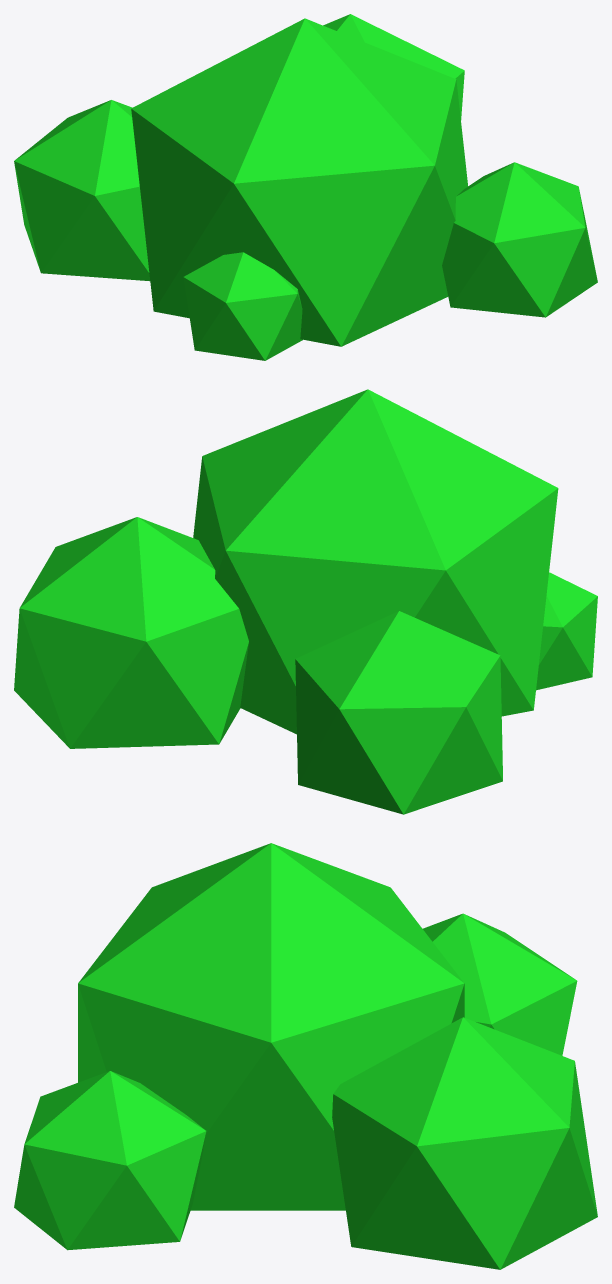
Rendered from bush1.fbx.
3 renders of one model, top to bottom at view 1: azimuth 30°, elevation 25°; view 2: azimuth 150°, elevation 25°; view 3: azimuth 270°, elevation 25°, orthographic. The views are drawn at different scales.
Visible parts, largest first — view 1: Icosphere; view 2: Icosphere; view 3: Icosphere.
Boxes of the visible parts, box(x1,y1,x2,y2) form: Icosphere: box(14, 14, 597, 360); Icosphere: box(14, 389, 597, 814); Icosphere: box(14, 843, 597, 1269).
Bounding box in the file's own units: 247 × 152 × 257.
